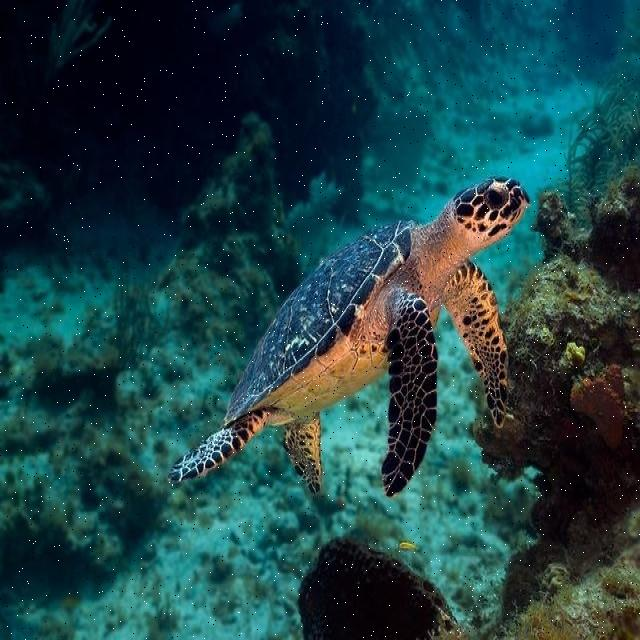aquatic plants: (558, 78, 639, 229)
fish: (168, 176, 532, 498)
sea-floor: (473, 161, 639, 619), (300, 537, 461, 638)
